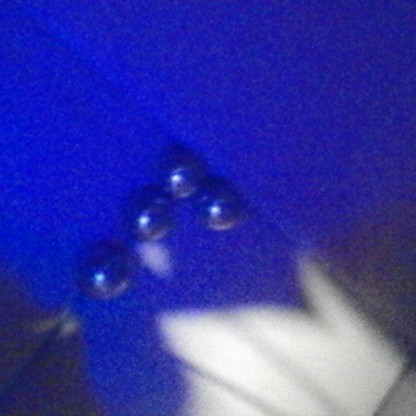ironball: (72, 237, 141, 301), (193, 178, 256, 237), (122, 187, 178, 246), (157, 150, 211, 203)
